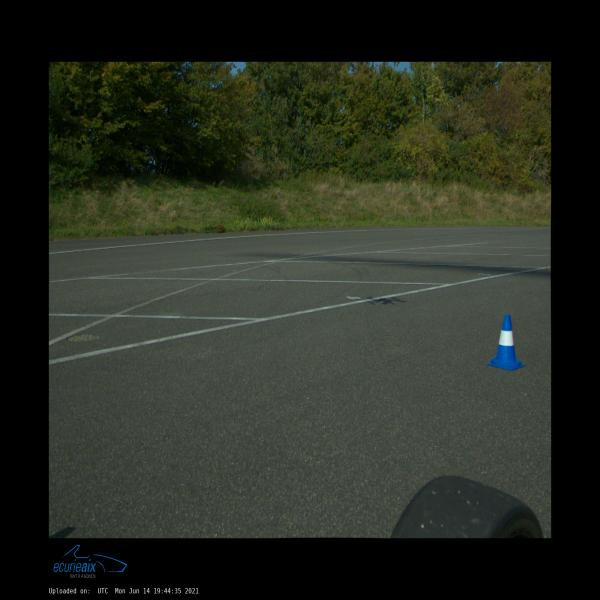blue_cone: (487, 315, 525, 371)
